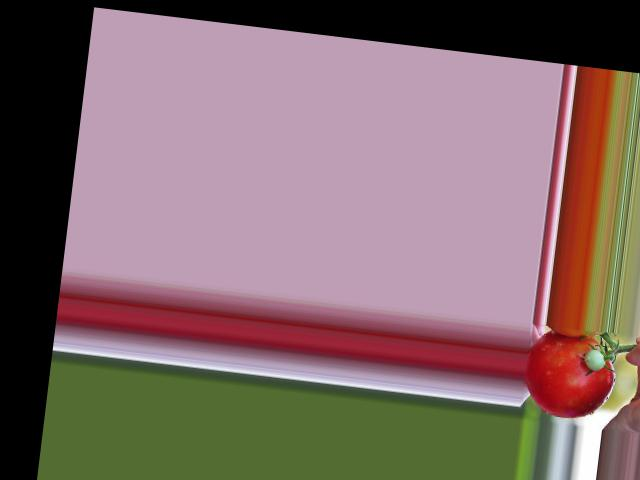tomato: (519, 328, 620, 422)
